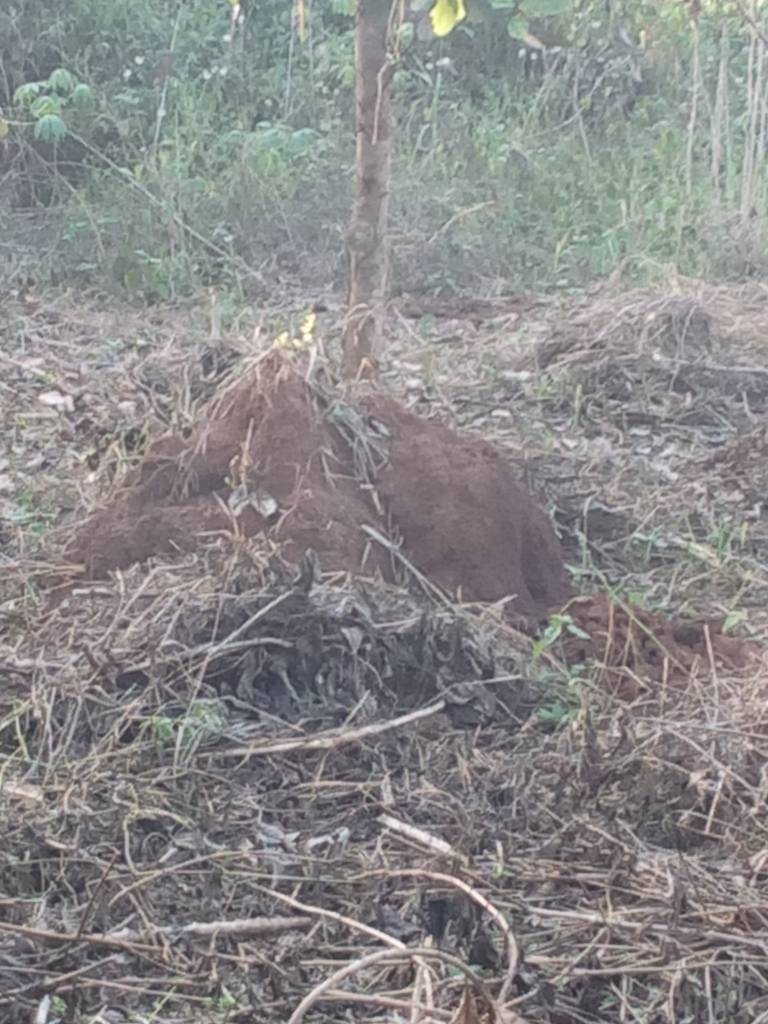Termites: (171, 363, 557, 657)
